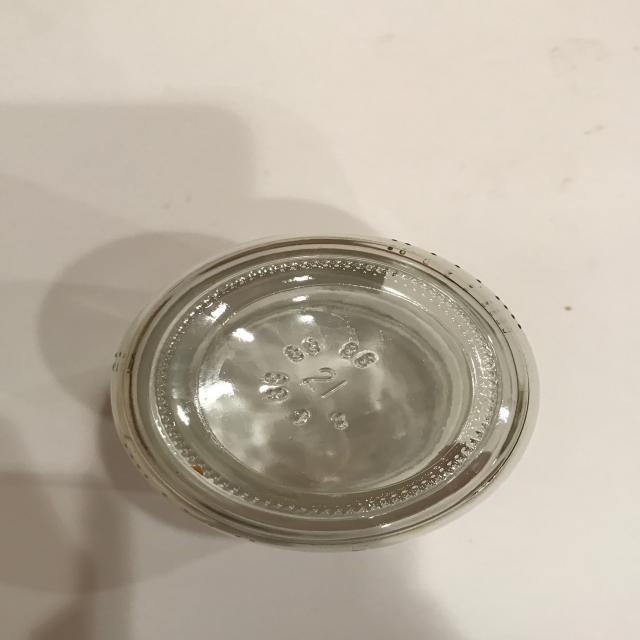glass: (106, 234, 544, 556)
